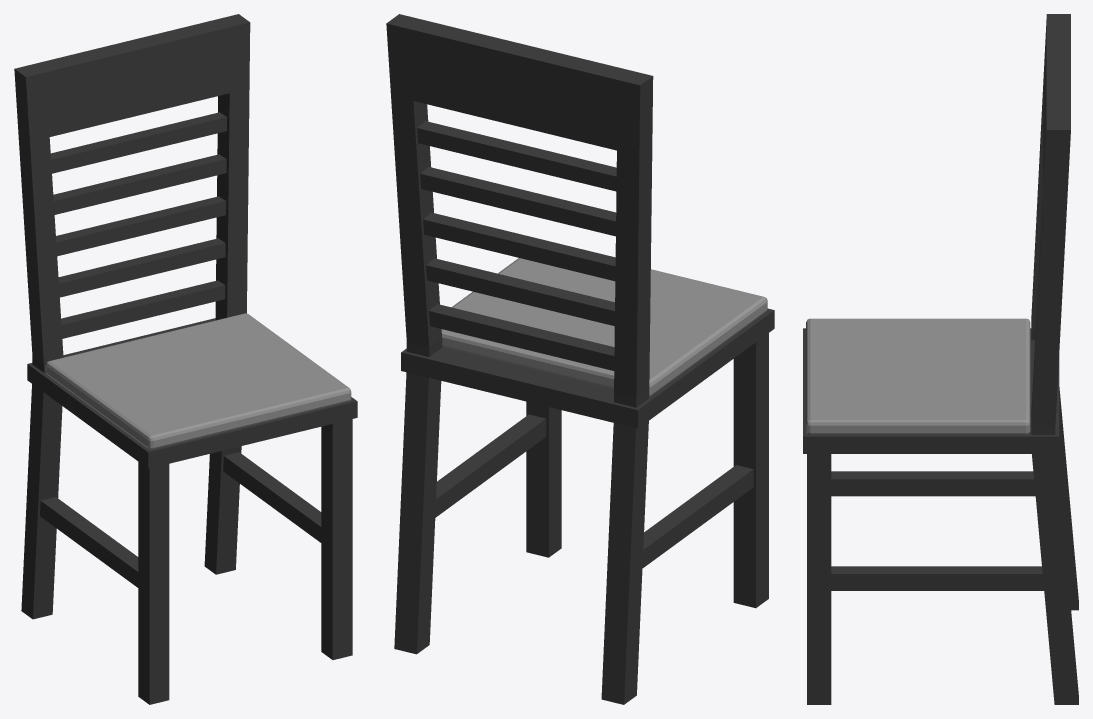
The model's file is Chair_04_C2.fbx.
The picture shows the model from 3 angles, left to right: view 1: azimuth 30°, elevation 25°; view 2: azimuth 150°, elevation 25°; view 3: azimuth 270°, elevation 25°; orthographic projection. The views are drawn at different scales.
Parts seen in each view (by area): view 1: Chair_04_C2; view 2: Chair_04_C2; view 3: Chair_04_C2.
Boxes of the visible parts, <box> form: Chair_04_C2: <box>14,14,357,704</box>; Chair_04_C2: <box>386,14,774,704</box>; Chair_04_C2: <box>803,14,1078,704</box>.
Bounding box in the file's own units: 42.89 × 100 × 43.04.
